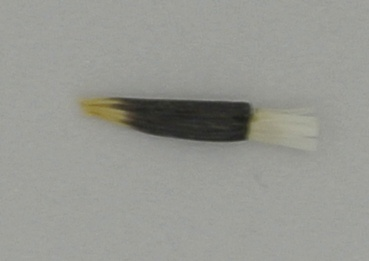เมล็ดดีติดกัน: (77, 94, 322, 154)
